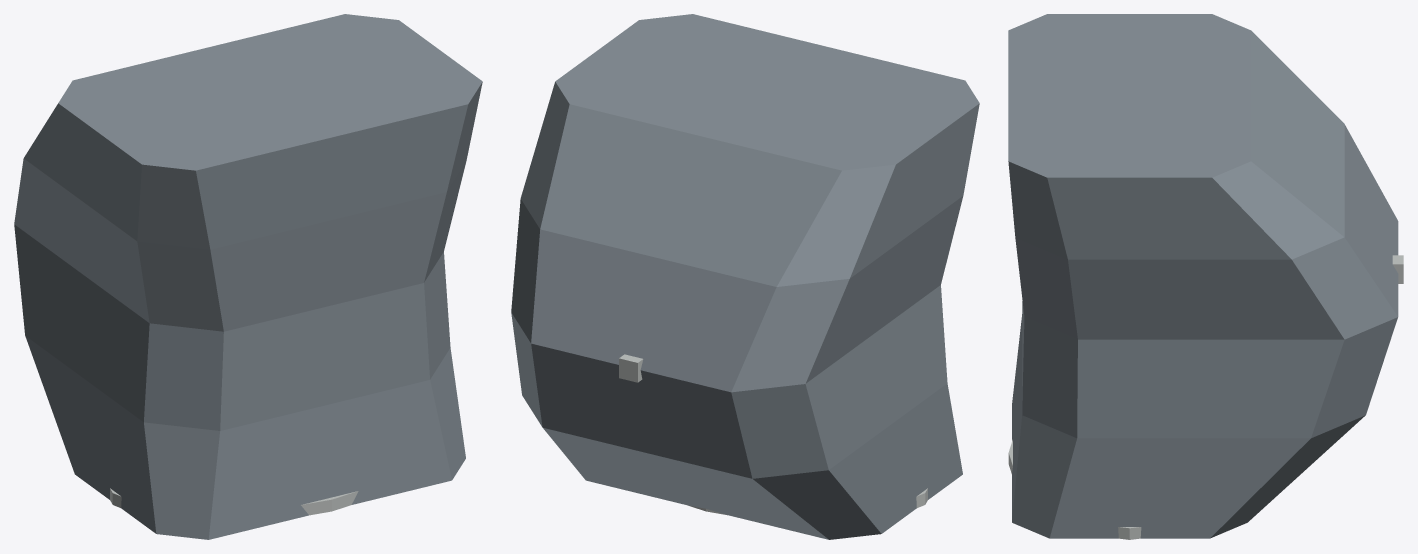
Rendered from visual-far.glb.
3 renders of one model, left to right at view 1: azimuth 30°, elevation 25°; view 2: azimuth 150°, elevation 25°; view 3: azimuth 270°, elevation 25°, orthographic.
Parts seen in each view (by area): view 1: 孕期腹部造型替换件; view 2: 孕期腹部造型替换件; view 3: 孕期腹部造型替换件.
Part boxes in pixels (x1,y1,x2,y2): 孕期腹部造型替换件: (14, 14, 482, 539); 孕期腹部造型替换件: (511, 14, 979, 539); 孕期腹部造型替换件: (1008, 14, 1403, 539).
Size of the model in its own units: 0.3608 by 0.3785 by 0.368.
Materials: 2 (2 with a texture image).
